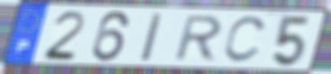2: (41, 9, 87, 62)
5: (269, 14, 312, 69)
6: (90, 10, 131, 64)
C: (221, 15, 270, 65)
I: (139, 11, 165, 64)
R: (170, 14, 226, 63)
